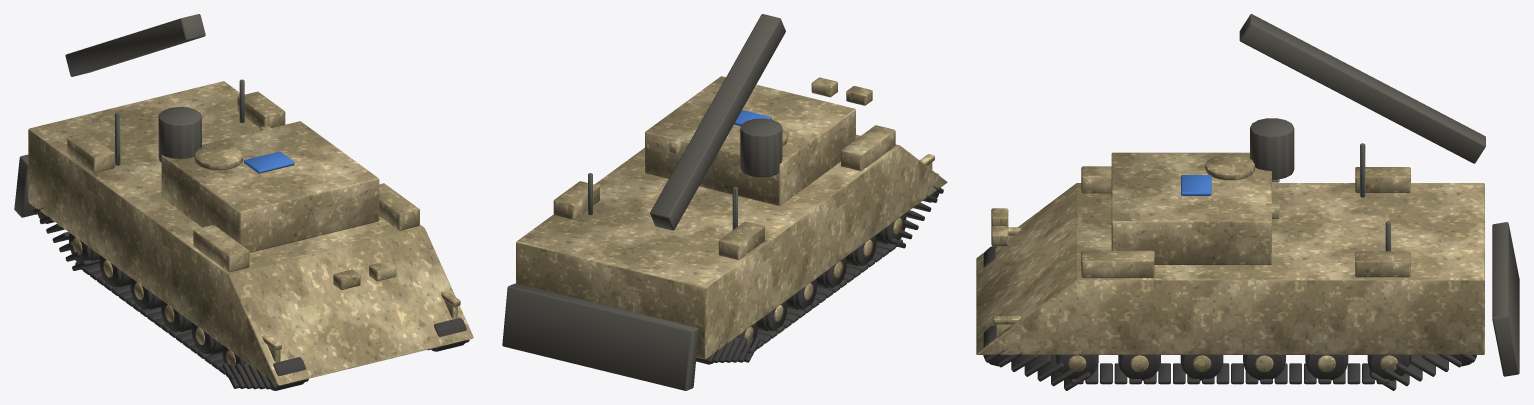
The model's file is eng_e4_us_repair_LOD0.glb.
3 renders of one model, left to right at view 1: azimuth 30°, elevation 25°; view 2: azimuth 150°, elevation 25°; view 3: azimuth 270°, elevation 25°, orthographic. The views are drawn at different scales.
Visible parts, largest first — view 1: eng_e4_us_repair_LOD0_body, eng_e4_us_repair_LOD0_track, eng_e4_us_repair_LOD0_deck, eng_e4_us_repair_LOD0_team, eng_e4_us_repair_LOD0_gun; view 2: eng_e4_us_repair_LOD0_body, eng_e4_us_repair_LOD0_deck, eng_e4_us_repair_LOD0_track, eng_e4_us_repair_LOD0_gun; view 3: eng_e4_us_repair_LOD0_body, eng_e4_us_repair_LOD0_deck, eng_e4_us_repair_LOD0_track, eng_e4_us_repair_LOD0_team, eng_e4_us_repair_LOD0_gun.
Part boxes in pixels (left/top/right/bottom): eng_e4_us_repair_LOD0_body: left=28, top=81, right=473, bottom=385; eng_e4_us_repair_LOD0_track: left=33, top=207, right=469, bottom=390; eng_e4_us_repair_LOD0_deck: left=14, top=14, right=205, bottom=217; eng_e4_us_repair_LOD0_team: left=244, top=151, right=294, bottom=173; eng_e4_us_repair_LOD0_gun: left=115, top=79, right=244, bottom=165; eng_e4_us_repair_LOD0_body: left=516, top=76, right=947, bottom=359; eng_e4_us_repair_LOD0_deck: left=502, top=14, right=785, bottom=390; eng_e4_us_repair_LOD0_track: left=696, top=173, right=943, bottom=364; eng_e4_us_repair_LOD0_gun: left=588, top=173, right=737, bottom=229; eng_e4_us_repair_LOD0_body: left=976, top=152, right=1484, bottom=371; eng_e4_us_repair_LOD0_deck: left=1239, top=14, right=1519, bottom=376; eng_e4_us_repair_LOD0_track: left=983, top=246, right=1476, bottom=390; eng_e4_us_repair_LOD0_team: left=1181, top=175, right=1211, bottom=195; eng_e4_us_repair_LOD0_gun: left=1360, top=143, right=1390, bottom=251.
Size of the model in its own units: 3.3 by 4.73 by 7.78.
5 materials, 1 textured.
